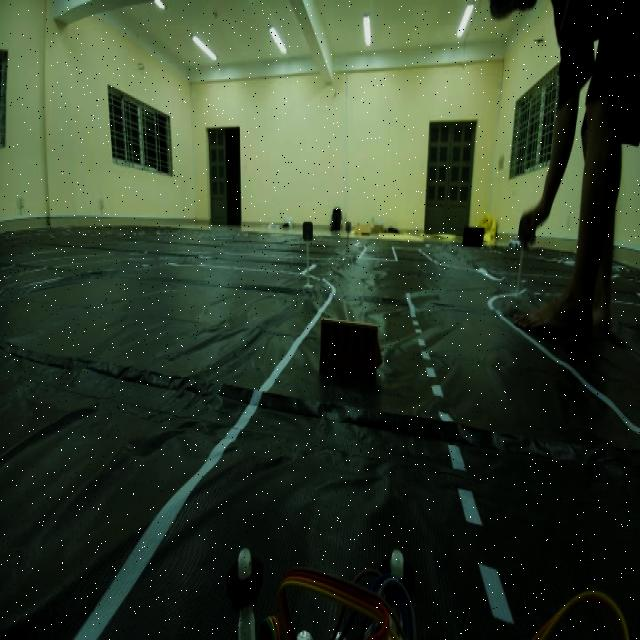roadblock: (317, 306, 388, 398)
